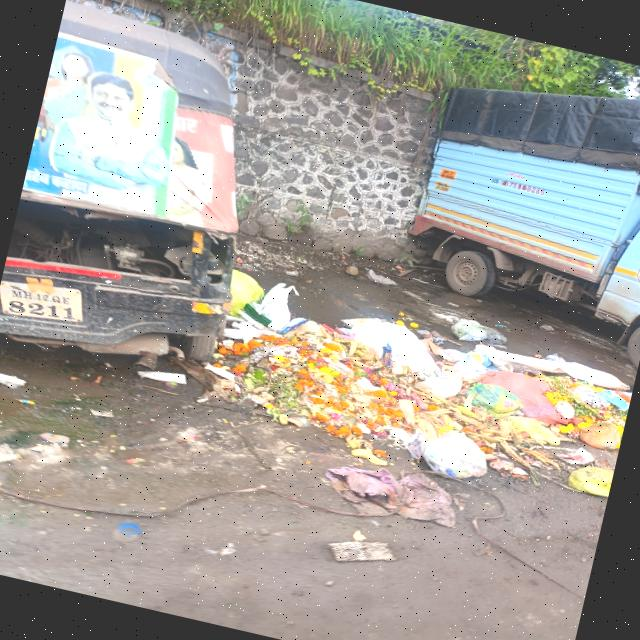garbage: (205, 273, 638, 518)
